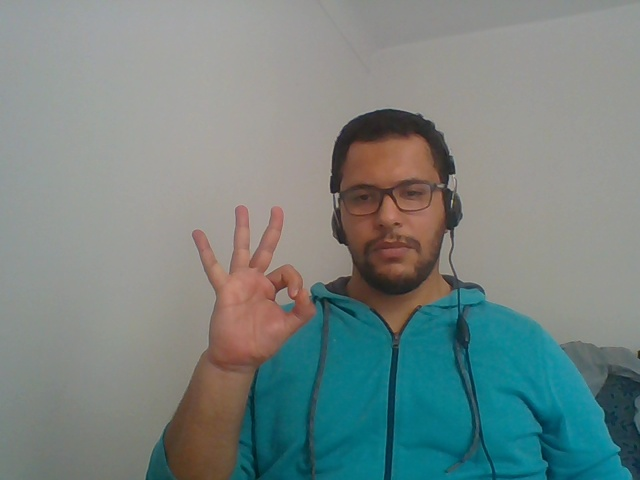okay: (178, 165, 317, 441)
